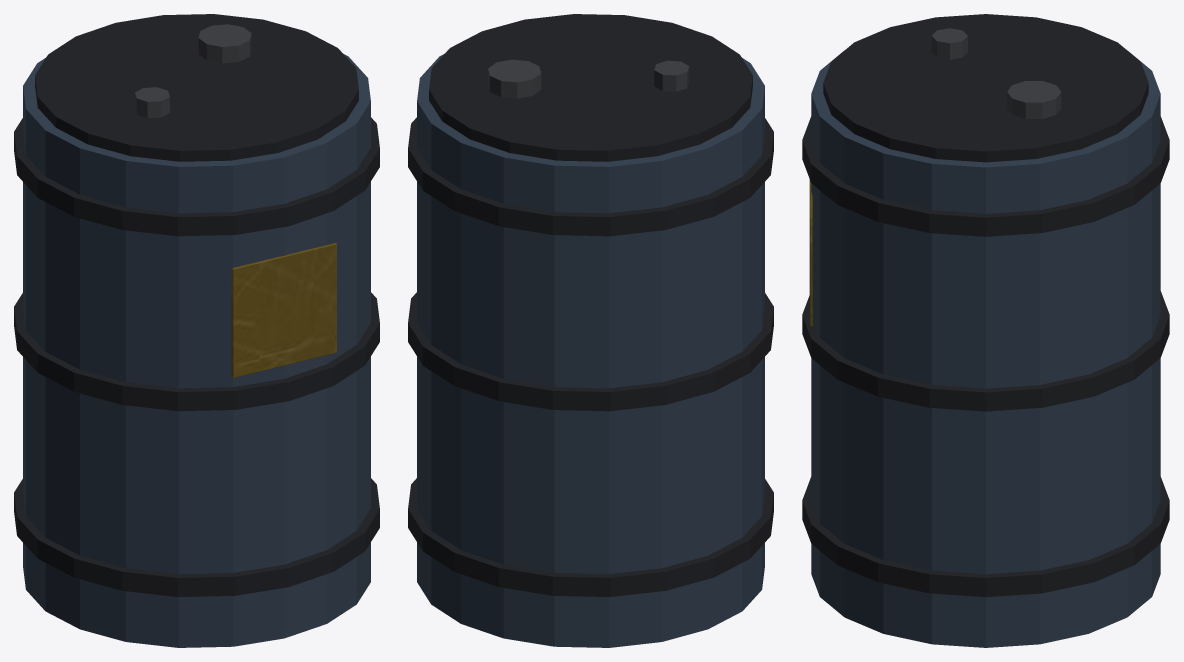
Rendered from barrel.glb.
3 views of the same model, side by side, from view 1: azimuth 30°, elevation 25°; view 2: azimuth 150°, elevation 25°; view 3: azimuth 270°, elevation 25° (orthographic).
Parts seen in each view (by area): view 1: body; view 2: body; view 3: body.
Boxes of the visible parts, left/top/right/bottom form: body: left=14, top=14, right=379, bottom=647; body: left=408, top=14, right=773, bottom=647; body: left=802, top=14, right=1169, bottom=647.
Size of the model in its own units: 0.61 by 0.93 by 0.61.
Materials: 4 (4 with a texture image).
